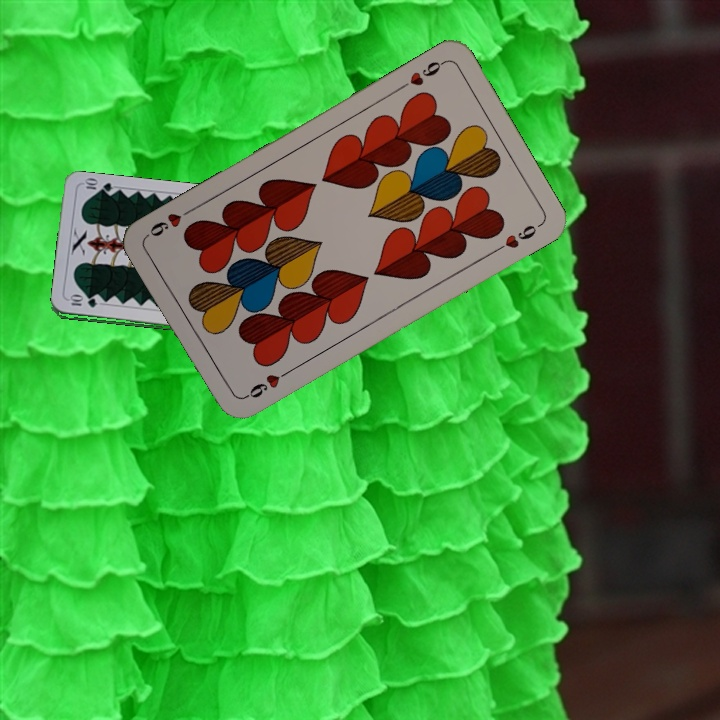G10: (66, 295, 100, 310)
H9: (395, 56, 448, 93), (239, 366, 293, 402)
